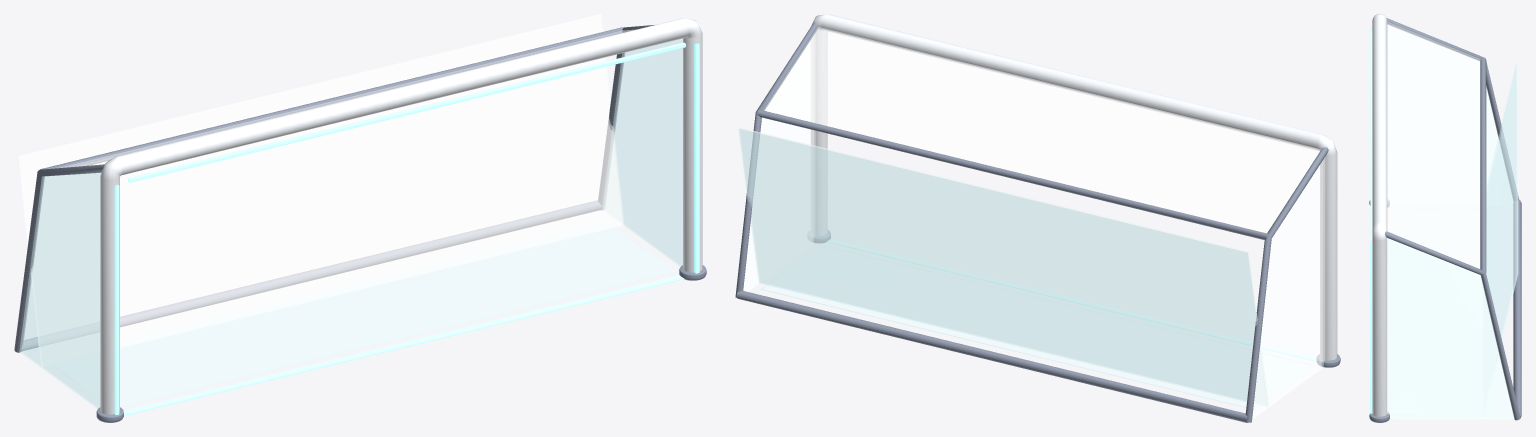
File: Goal-Frame-Exact-Mesh-v2.0.0.glb
The picture shows the model from 3 angles, left to right: view 1: azimuth 30°, elevation 25°; view 2: azimuth 150°, elevation 25°; view 3: azimuth 270°, elevation 25°; orthographic projection. The views are drawn at different scales.
Parts seen in each view (by area): view 1: netBack, goalMouthGlow, goalFrame, netSideR, netSideL, backBarFloor, backBarTop, goalLine, crossbarLight, sideFrameR, netTop, postLightL (+2 smaller); view 2: netBack, netTop, goalFrame, netSideR, netSideL, backBarFloor, backBarTop, goalMouthGlow, goalLine, sideFrameR, sideFrameL; view 3: netTop, netSideL, netSideR, netBack, goalFrame, backBarFloor, sideFrameL, backBarTop, sideFrameR, crossbarLight, postLightL.
Part boxes in pixels (x1,y1,x2,y2): netBack: (18,14,624,366); goalMouthGlow: (120,226,674,406); goalFrame: (100,18,702,414); netSideR: (19,173,100,408); netSideL: (603,38,682,266); backBarFloor: (21,200,602,350); backBarTop: (40,27,623,169); goalLine: (123,275,684,416); crossbarLight: (128,42,685,182); sideFrameR: (14,164,104,352); netTop: (61,30,632,167); postLightL: (694,43,699,273); netBack: (738,127,1268,407); netTop: (764,27,1320,233); goalFrame: (811,14,1337,360); netSideR: (1252,158,1324,419); netSideL: (743,36,815,291); backBarFloor: (736,291,1247,422); backBarTop: (757,110,1268,239); goalMouthGlow: (761,284,1246,407); goalLine: (827,238,1316,361); sideFrameR: (1245,147,1328,422); sideFrameL: (735,22,817,297); netTop: (1387,22,1480,268); netSideL: (1387,238,1514,419); netSideR: (1388,25,1513,205); netBack: (1482,60,1518,418); goalFrame: (1372,14,1387,416); backBarFloor: (1513,200,1521,418); sideFrameL: (1385,231,1520,420); backBarTop: (1480,57,1486,272); sideFrameR: (1386,18,1519,201); crossbarLight: (1370,30,1372,236); postLightL: (1370,241,1372,413).
Size of the model in its own units: 9.16 by 3.75 by 2.65.
Materials: 5 (2 with a texture image).
